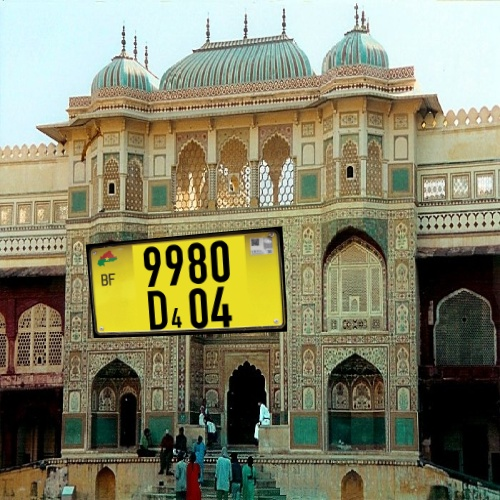plate: (78, 213, 295, 358)
